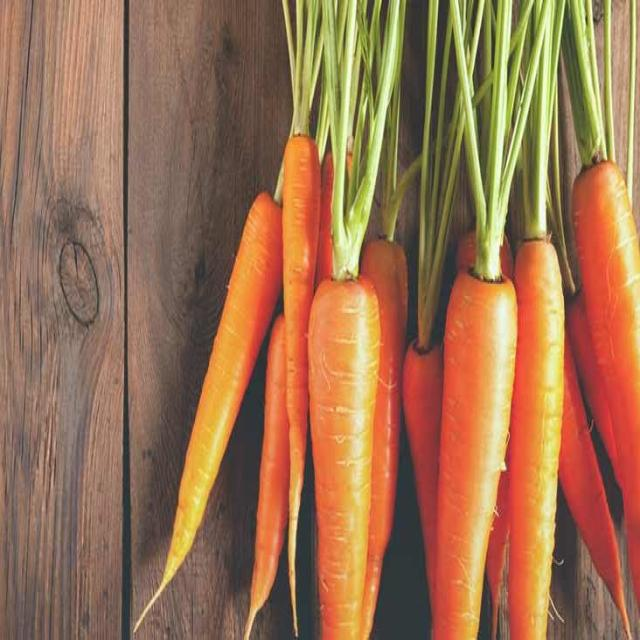Fresh_Carrot: (567, 177, 640, 628), (305, 291, 375, 640), (442, 257, 504, 638)
